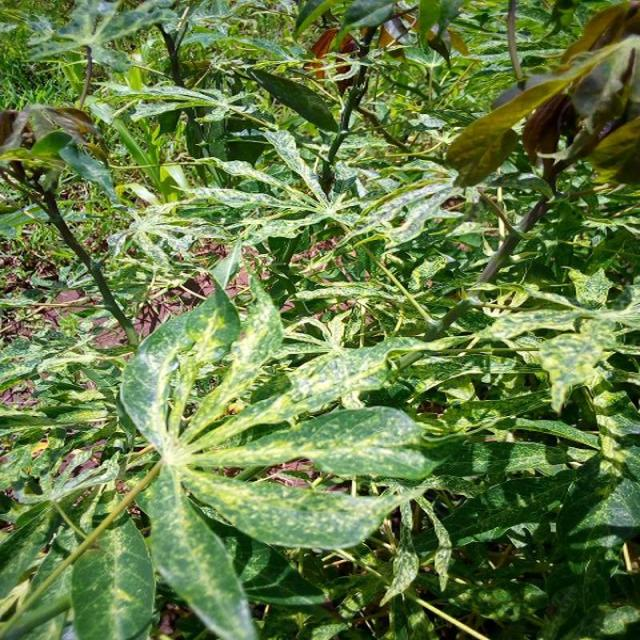cassava leaf: (115, 268, 441, 637), (68, 513, 155, 638)
